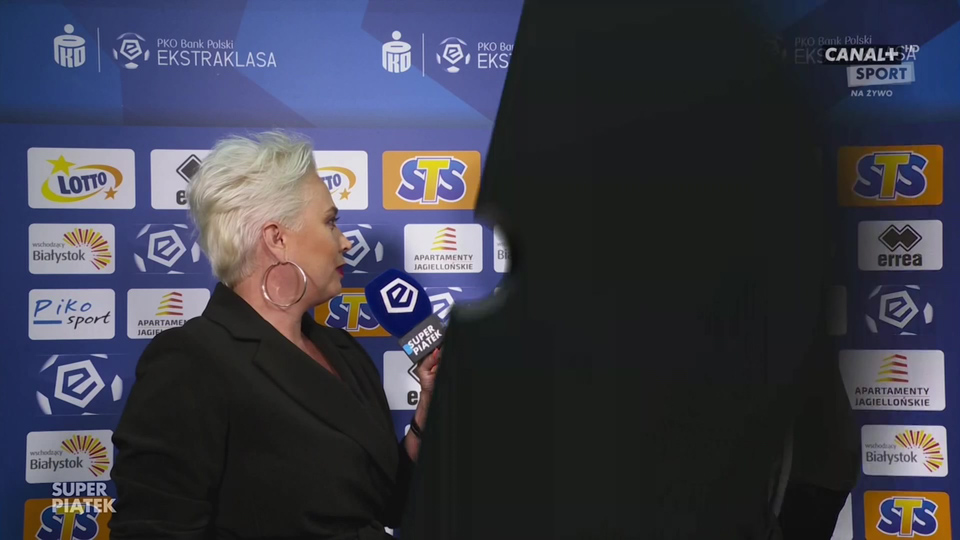pko: (47, 23, 92, 70), (375, 28, 417, 74)
